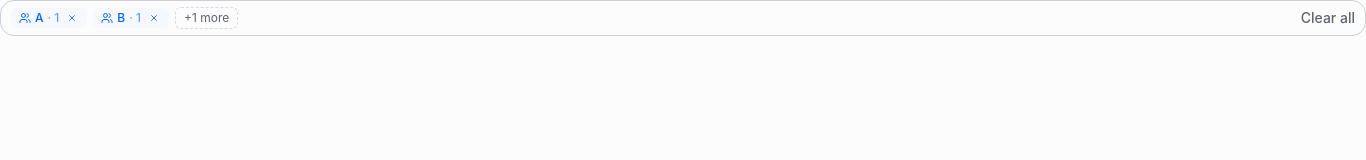
it: EntitySelector › chips › collapses chips past maxVisibleTokens behind a "+N more" control
Click the button "+1 more".
click(207, 18)  # box [175,7,238,29]
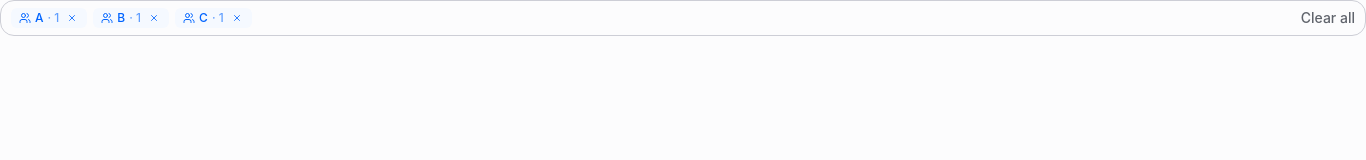
Expected: the button "+1 more" is gone
